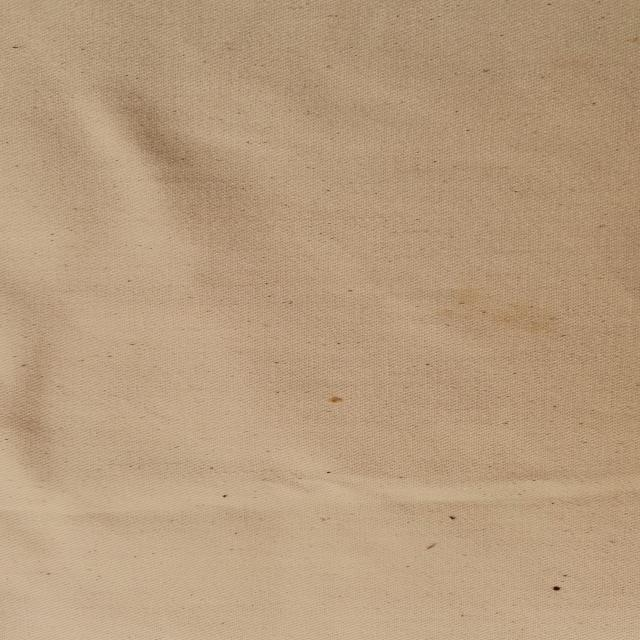taaaches: (321, 396, 347, 408), (540, 582, 566, 594)
